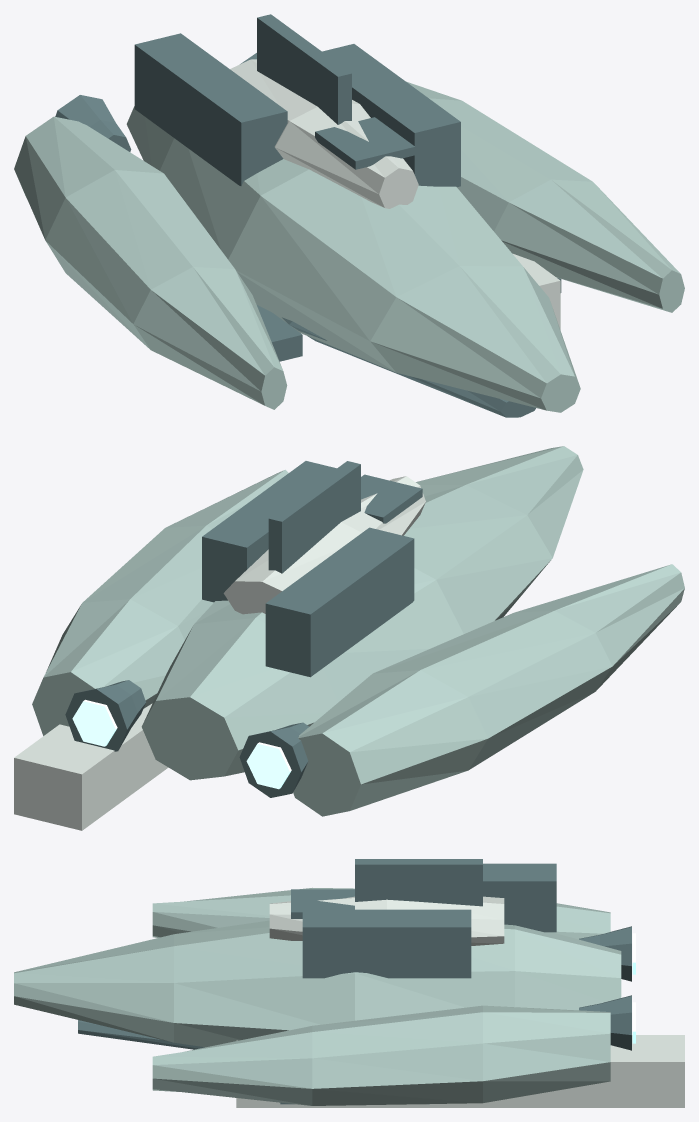
3 renders of one model, top to bottom at view 1: azimuth 30°, elevation 25°; view 2: azimuth 150°, elevation 25°; view 3: azimuth 270°, elevation 25°, orthographic. The views are drawn at different scales.
Size of the model in its own units: 6.19 by 3.05 by 9.55.
